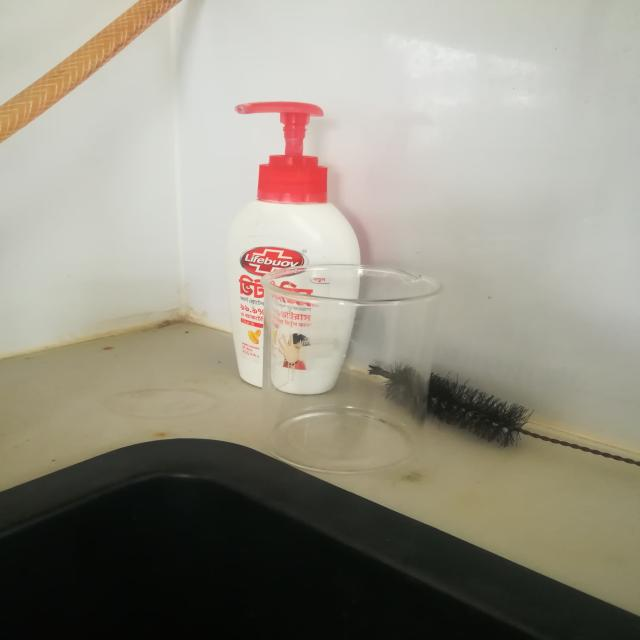Beaker: (233, 242, 483, 492)
